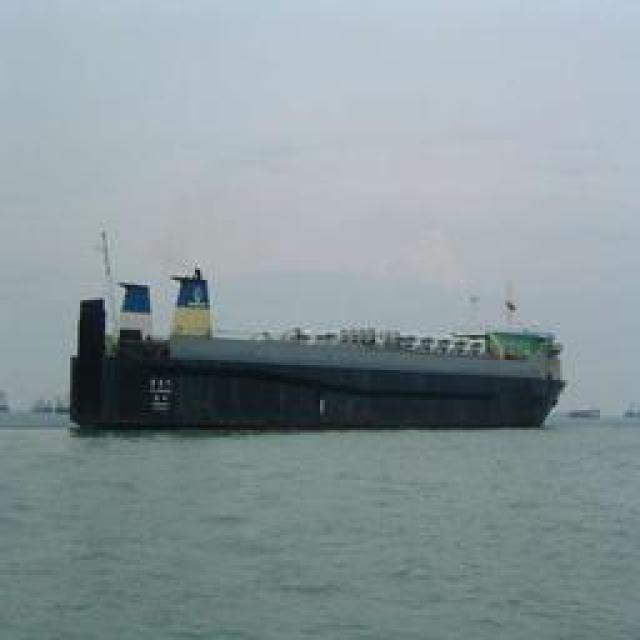Ship: (69, 276, 569, 434)
